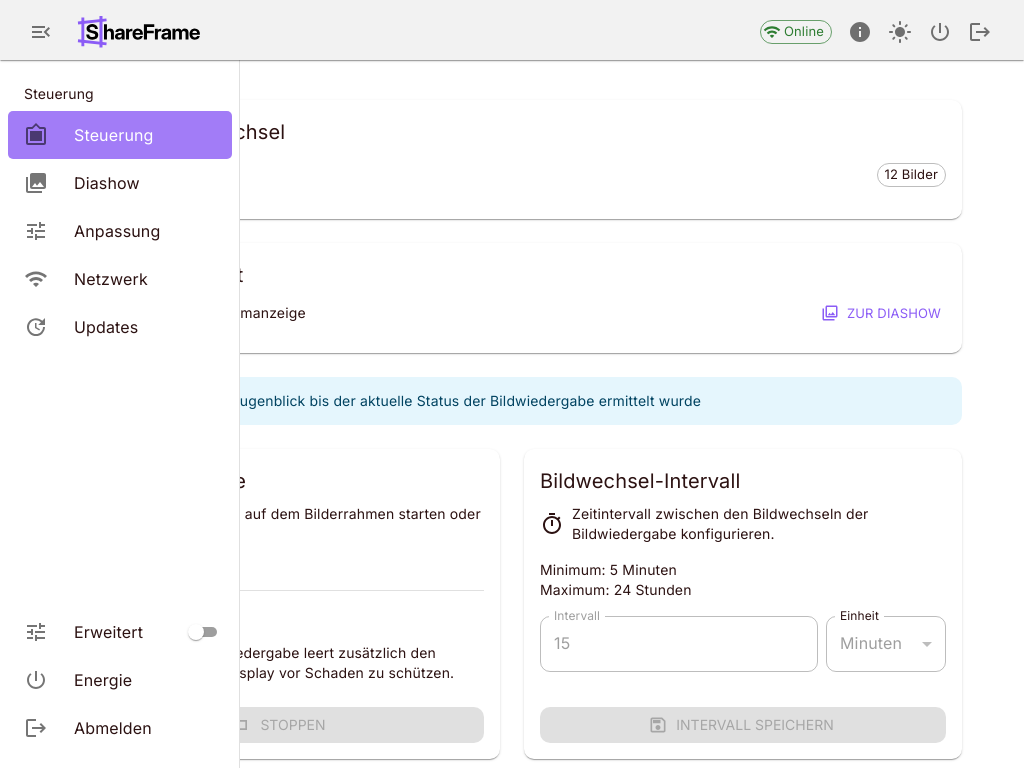
it: navigation › opens a page from the sidebar
Click the link "Netzwerk": (86,279) [24, 267, 148, 291]
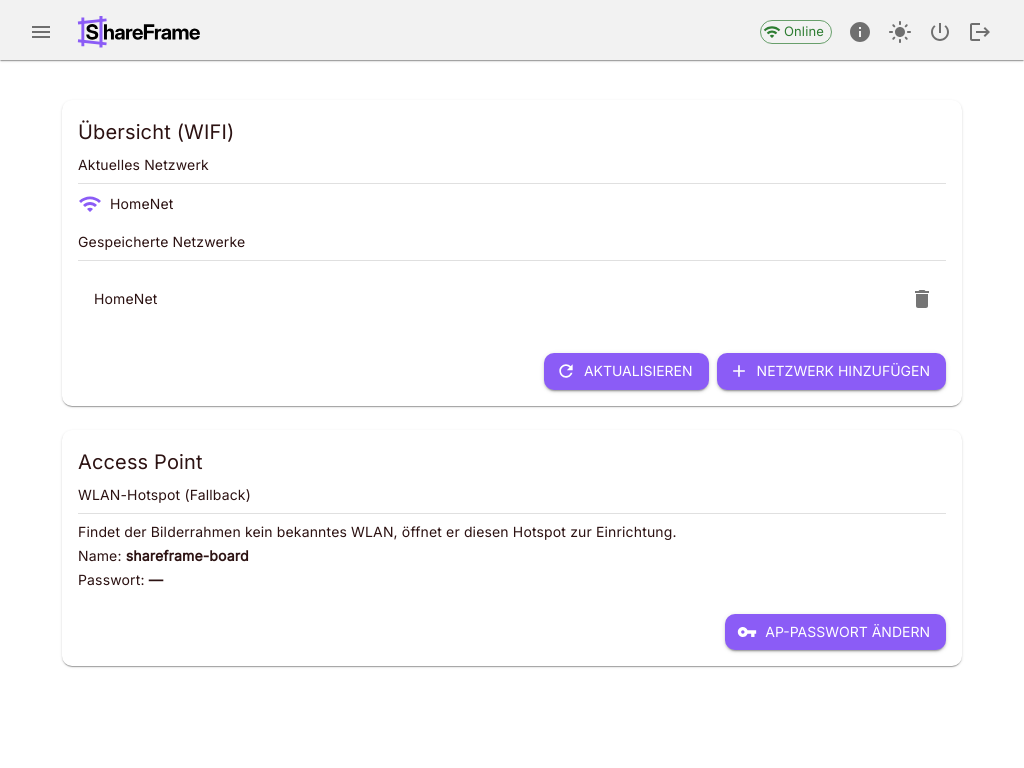
Expected: the heading "Übersicht (WIFI)" is shown, [78, 120, 234, 144]
